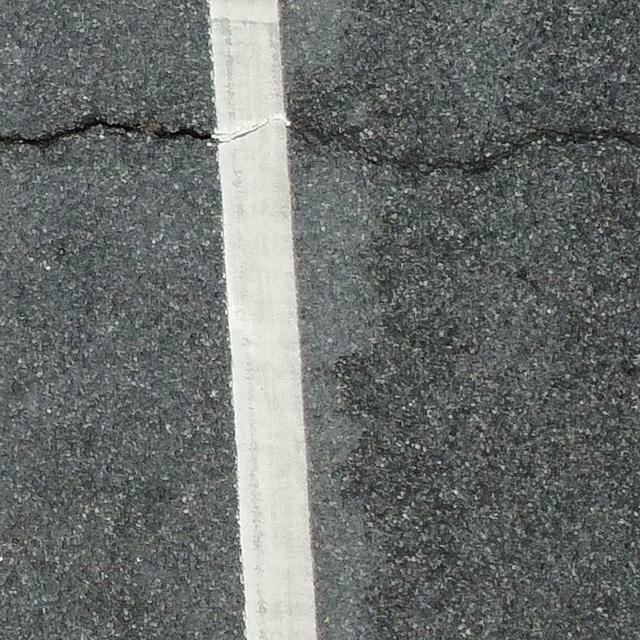TransverseCrack: (1, 109, 640, 176)
